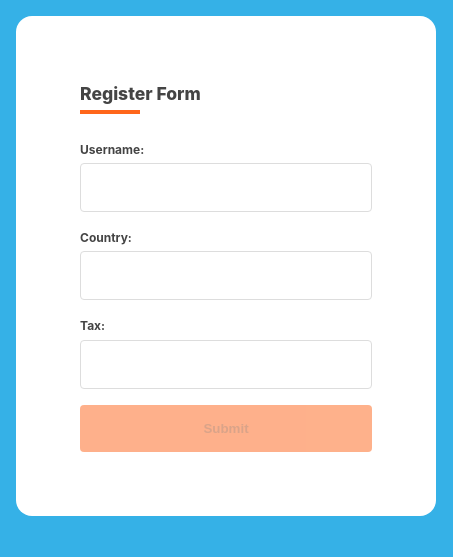
Scenario: Register Form › Username field › Should show error if username is less than 2 characters
This screenshot has width=453, height=557.
In the field named "username" below "Username:": (226, 188) top-left (80, 163), bottom-right (372, 212), type "Sa"
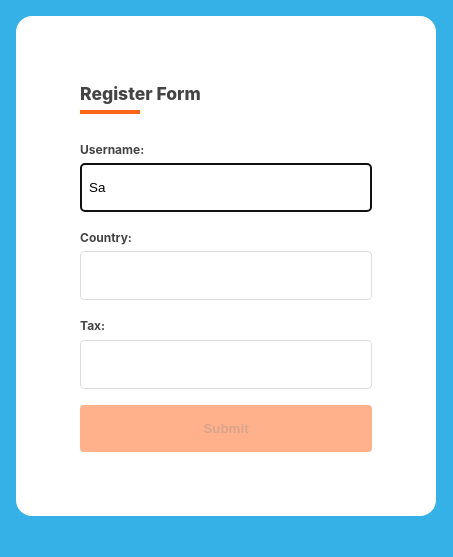
Leave the field named "username" below "Username:", box top-left (80, 163), bottom-right (372, 212)
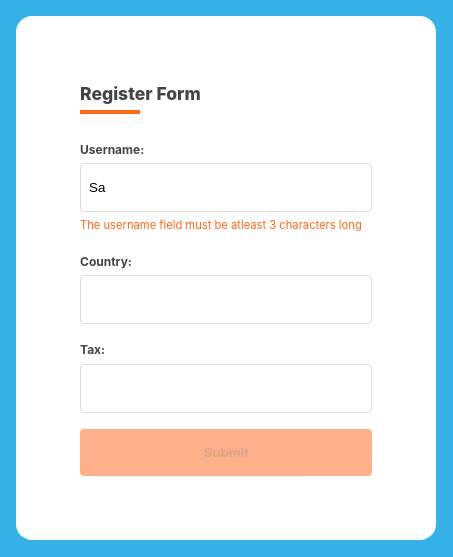
Expected: the text "The username field must be atleast 3 characters long" is shown, top-left (80, 218), bottom-right (362, 232)
